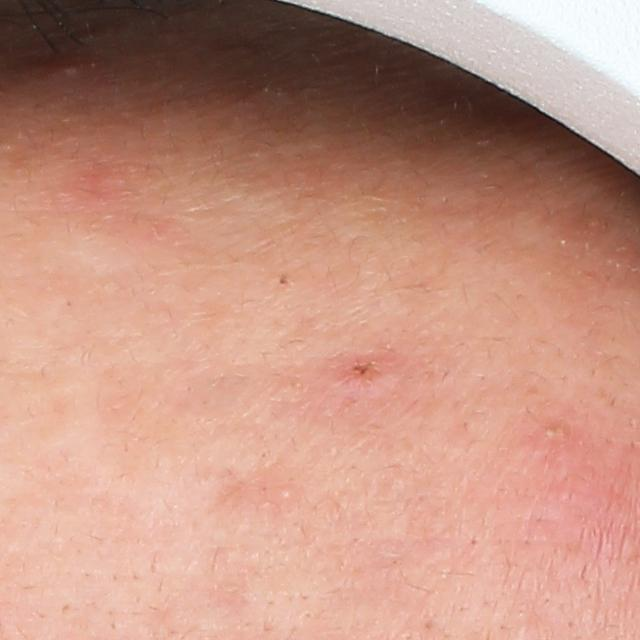comedo: (277, 487, 292, 502), (276, 272, 290, 288)
papule: (322, 352, 399, 399)
